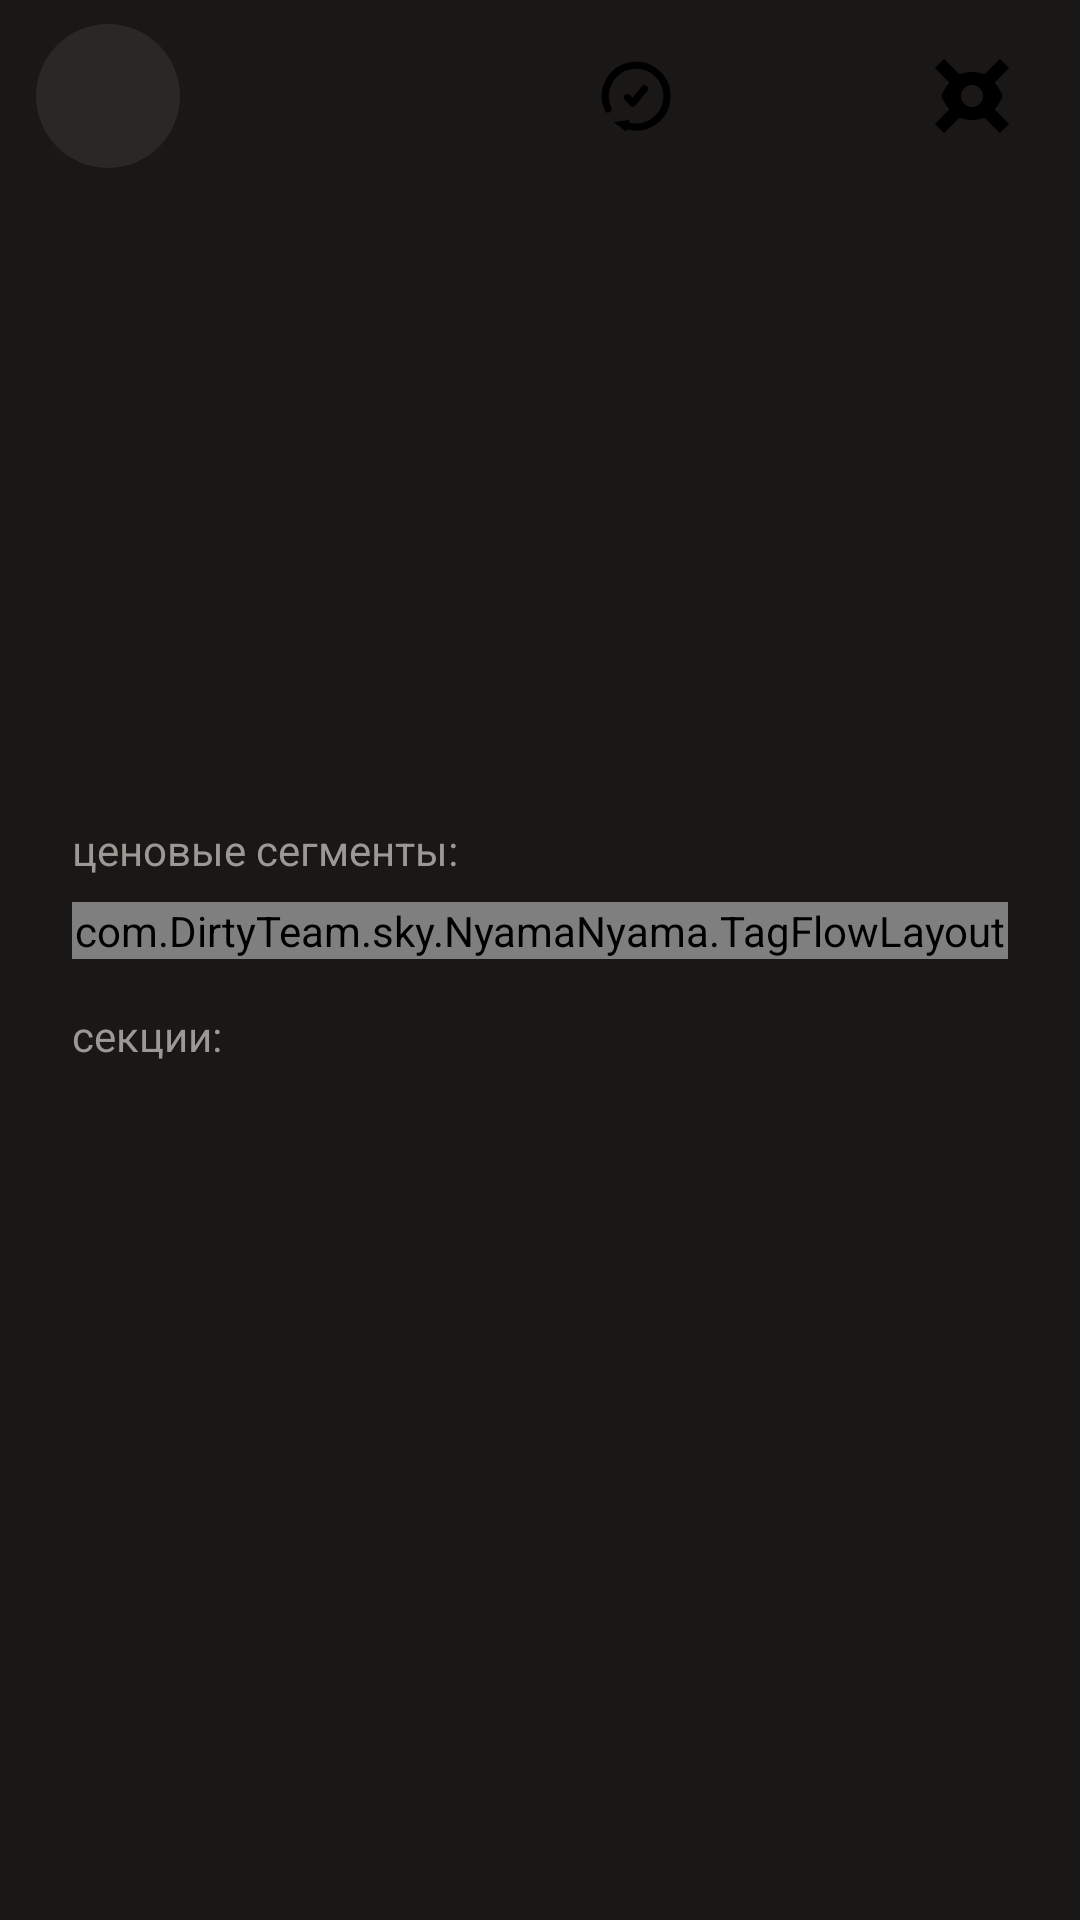

Where to tap for icons on this 1080x1920 app screen, as (x=x, y=y):
history: (x=636, y=96)
